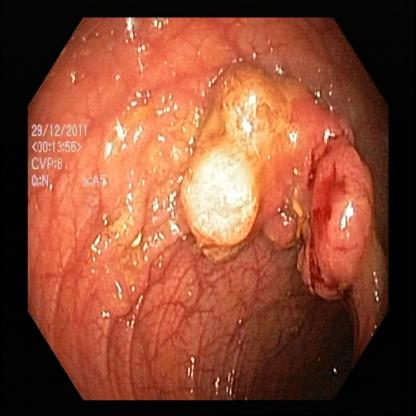Labels: (27, 114, 120, 205)
Polyps: (192, 70, 280, 245), (303, 148, 373, 301)
